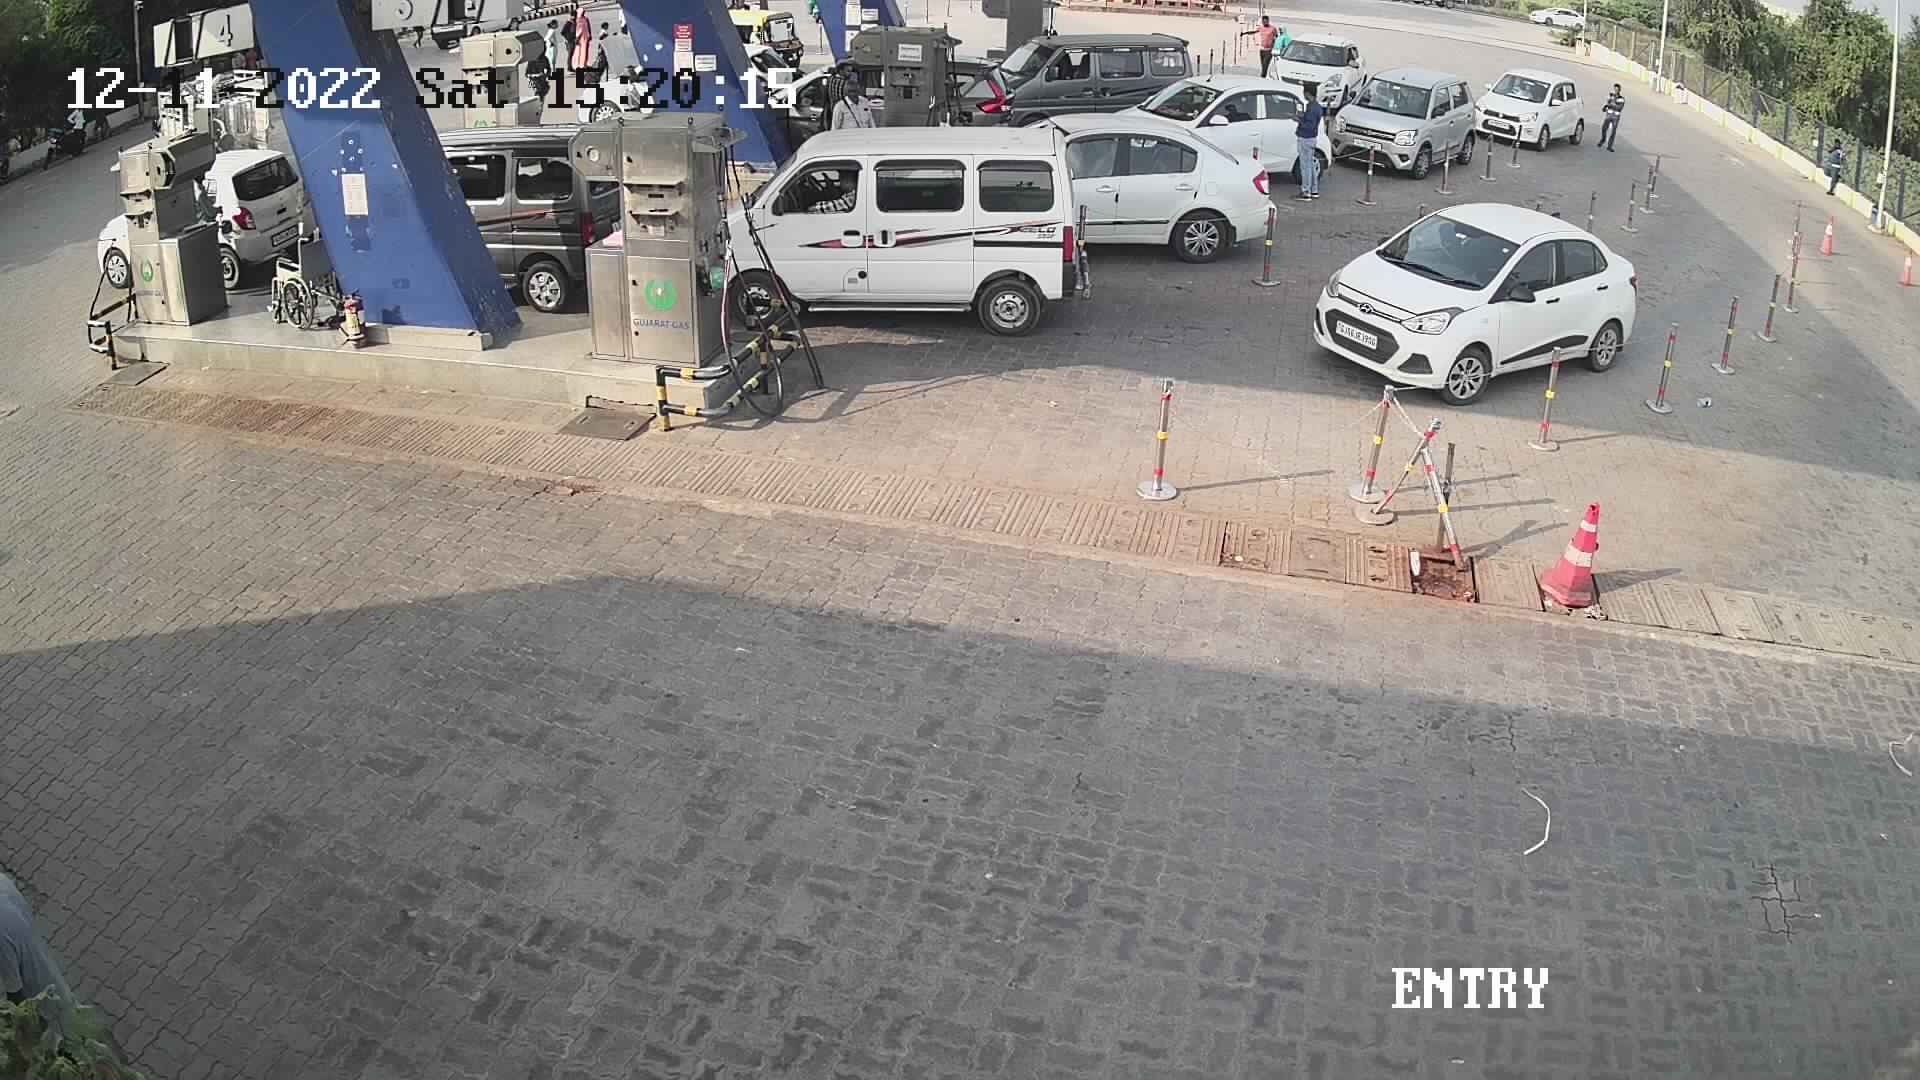Auto: (713, 0, 812, 78)
Bike: (30, 95, 94, 171)
Car: (715, 129, 1096, 340), (1311, 179, 1634, 417), (369, 108, 661, 310), (998, 104, 1286, 268), (961, 20, 1216, 156), (137, 129, 335, 298), (1102, 62, 1331, 195), (1312, 59, 1486, 183), (1238, 17, 1378, 129), (1465, 54, 1602, 160)
